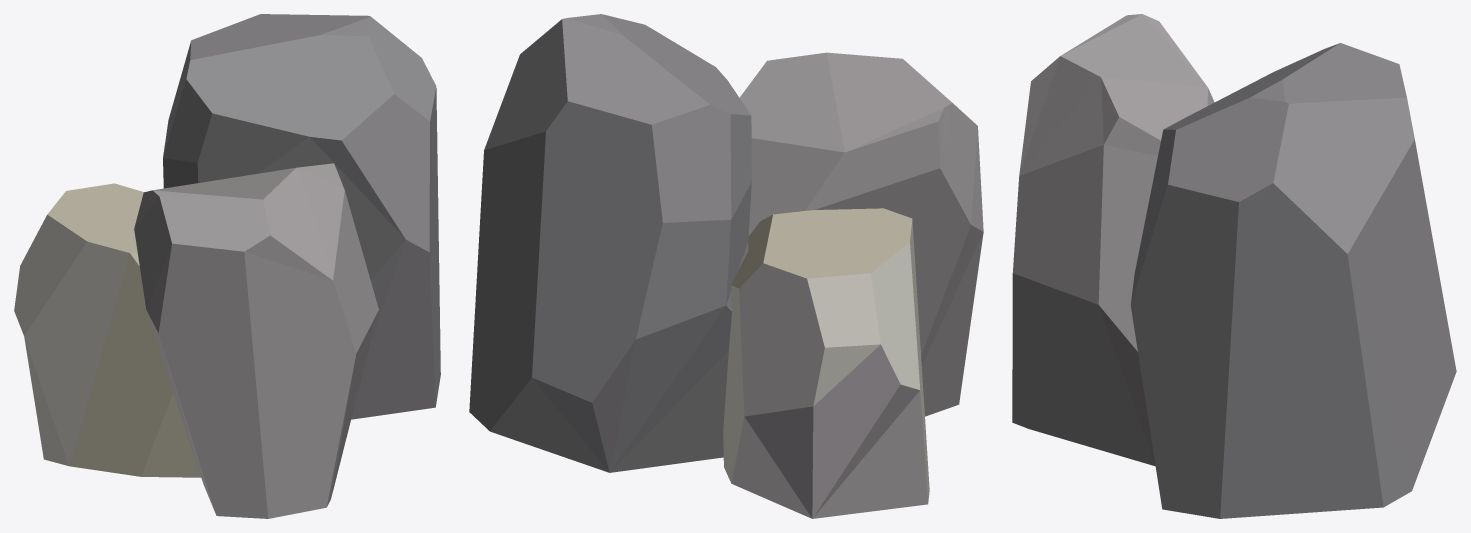
Rendered from Rocks_Round_l_03 2.fbx.
3 views of the same model, side by side, from view 1: azimuth 30°, elevation 25°; view 2: azimuth 150°, elevation 25°; view 3: azimuth 270°, elevation 25° (orthographic). The views are drawn at different scales.
Visible parts, largest first — view 1: Rocks_Round_l_03; view 2: Rocks_Round_l_03; view 3: Rocks_Round_l_03.
Boxes of the visible parts, <box> form: Rocks_Round_l_03: <box>14,14,440,518</box>; Rocks_Round_l_03: <box>469,14,983,518</box>; Rocks_Round_l_03: <box>1012,14,1456,518</box>.
Size of the model in its own units: 274 by 250 by 245.
